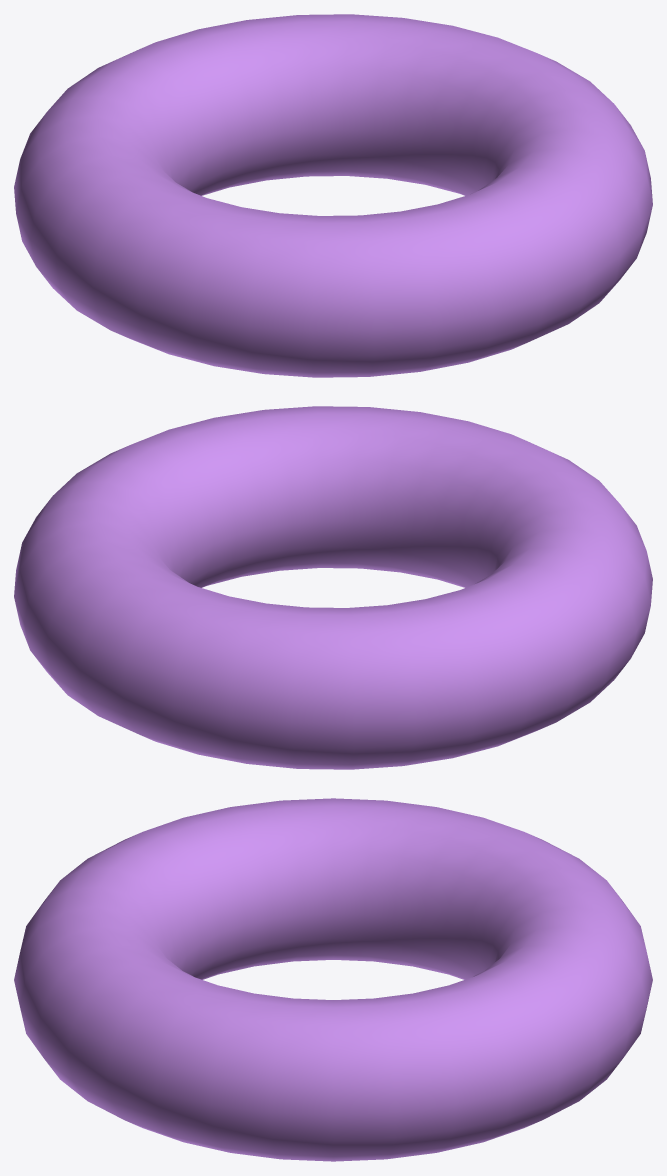
The picture shows the model from 3 angles, top to bottom: view 1: azimuth 30°, elevation 25°; view 2: azimuth 150°, elevation 25°; view 3: azimuth 270°, elevation 25°; orthographic projection.
Visible parts, largest first — view 1: torus; view 2: torus; view 3: torus.
Boxes of the visible parts, x1,y1,x2,y2 form: torus: [14, 14, 652, 377]; torus: [14, 406, 652, 769]; torus: [14, 798, 652, 1161].
Bounding box in the file's own units: 1.74 × 0.44 × 1.74.
